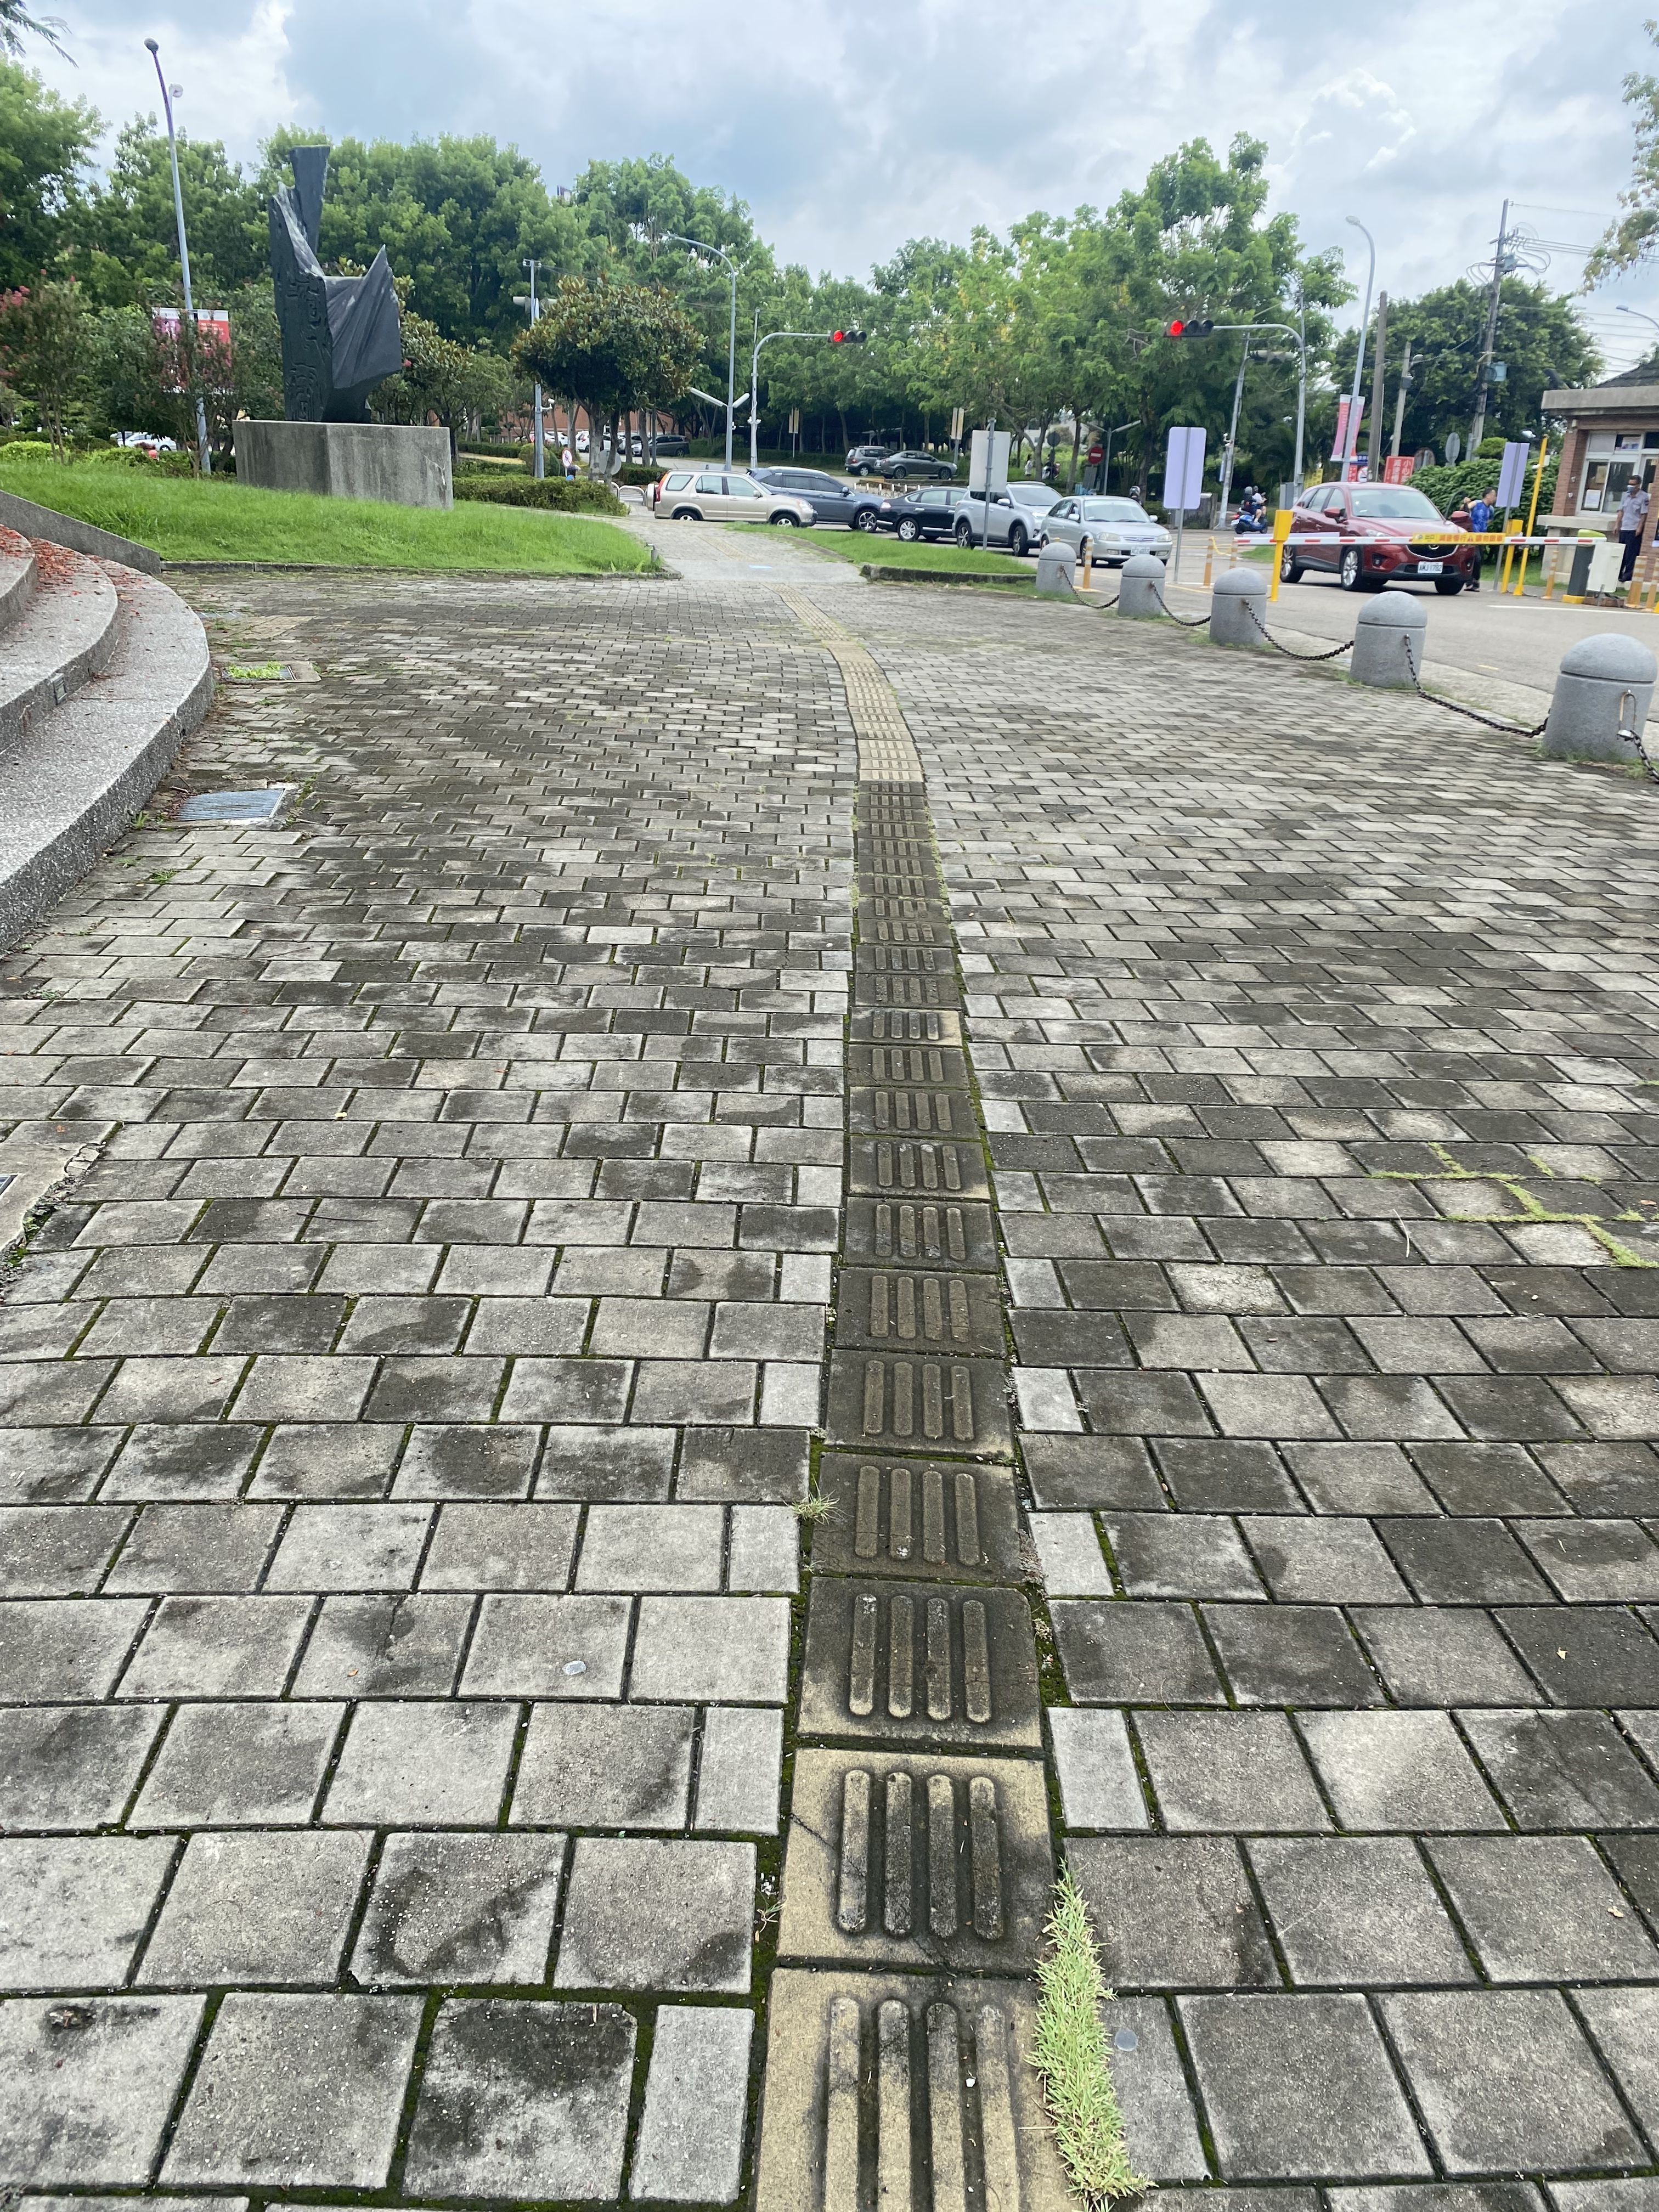sidewalk: (23, 535, 1659, 2212)
